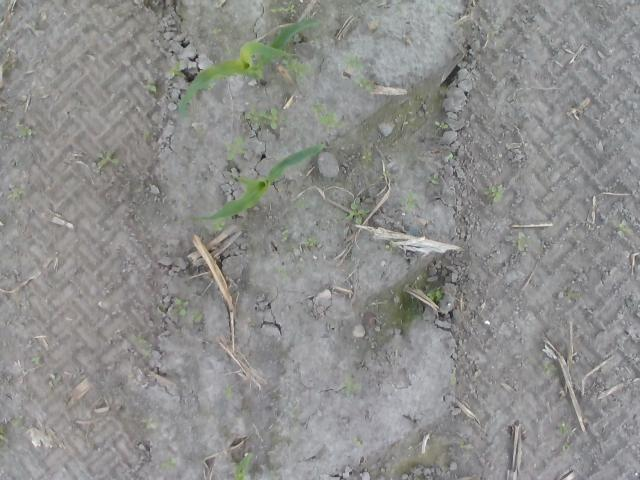Maize: (178, 18, 322, 118), (190, 142, 328, 222)
Weeds: (245, 108, 281, 128), (126, 332, 150, 356), (227, 139, 249, 164), (314, 105, 340, 126), (284, 55, 310, 76), (236, 451, 253, 480), (556, 424, 574, 451), (96, 152, 118, 172), (340, 376, 360, 396), (349, 205, 369, 224), (484, 186, 505, 204), (2, 50, 16, 76), (346, 56, 364, 75), (164, 64, 186, 79), (402, 194, 422, 210), (518, 232, 532, 253), (543, 357, 557, 377), (270, 7, 298, 17), (172, 298, 188, 314), (274, 264, 289, 280), (19, 127, 35, 141), (160, 458, 177, 471), (618, 220, 632, 235), (211, 218, 226, 232), (566, 289, 582, 302), (141, 417, 157, 430), (358, 78, 374, 91), (400, 114, 418, 125), (0, 424, 9, 446), (8, 188, 23, 200), (303, 236, 317, 248), (221, 387, 232, 401), (385, 241, 396, 252), (156, 307, 168, 317), (428, 172, 438, 184), (429, 290, 442, 299), (143, 127, 152, 140), (210, 28, 223, 37), (280, 228, 288, 242), (436, 4, 449, 12), (192, 308, 202, 318), (451, 374, 458, 388), (443, 154, 455, 162), (31, 356, 40, 366), (364, 150, 374, 159), (436, 122, 447, 130), (353, 439, 362, 448), (12, 420, 22, 428), (460, 442, 470, 450), (50, 374, 59, 382), (490, 28, 500, 35), (147, 84, 155, 92), (381, 171, 388, 180)
